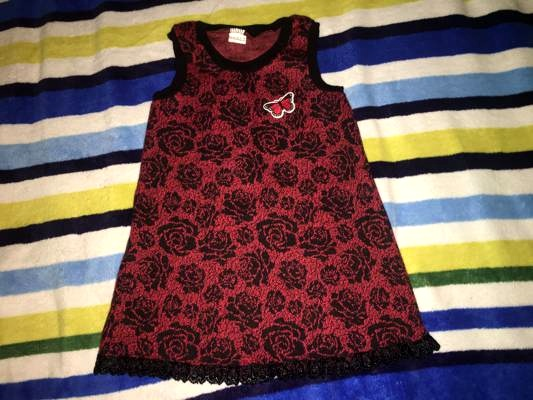Dress: (96, 17, 454, 386)
